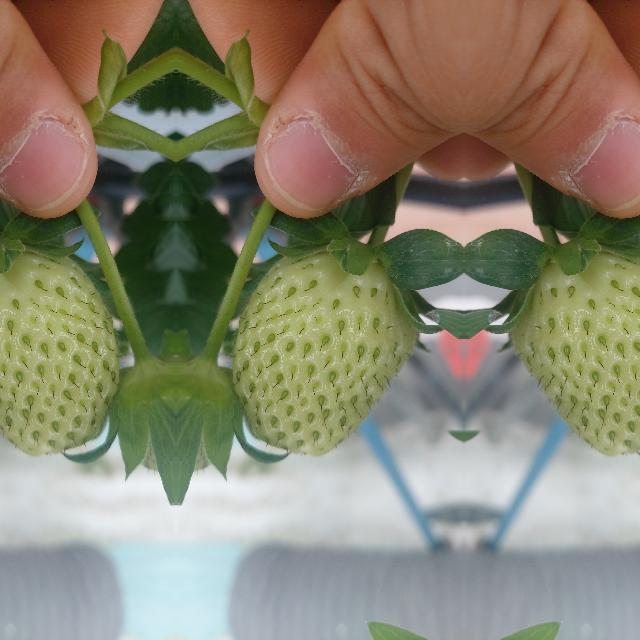Health_25: (232, 250, 416, 456), (509, 250, 640, 455), (0, 250, 118, 455)
